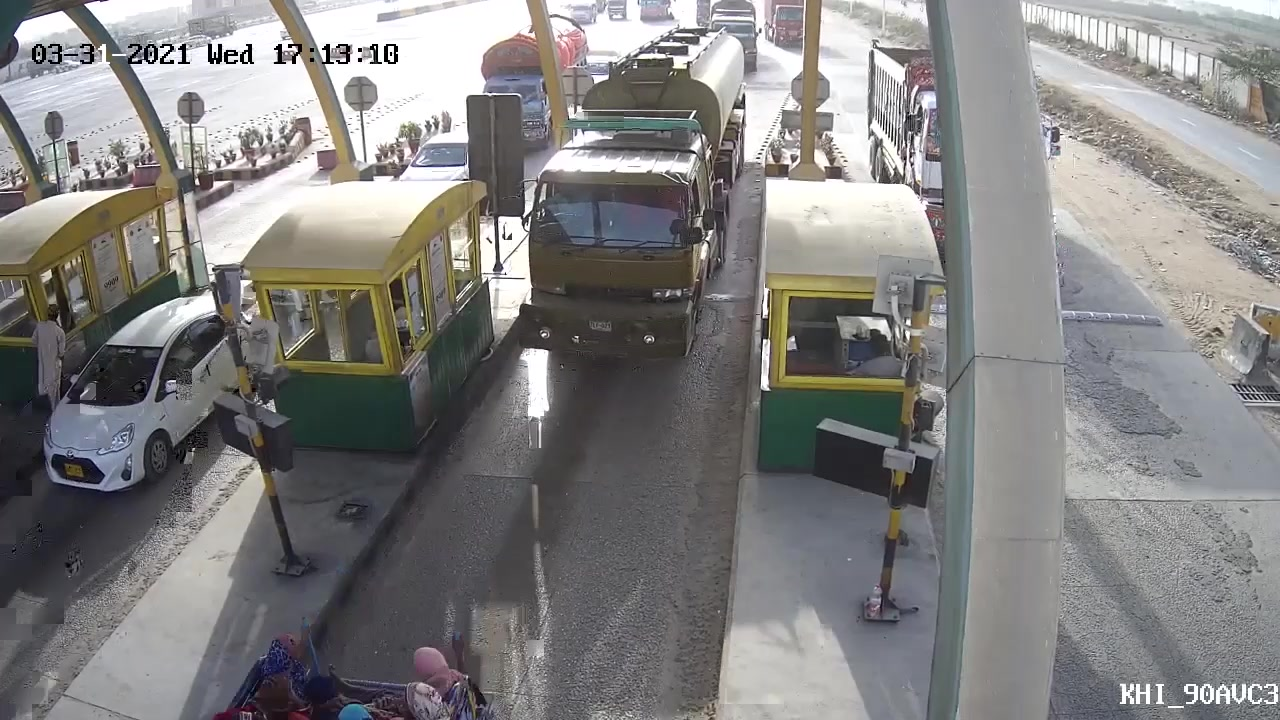F6: (514, 17, 753, 379)
